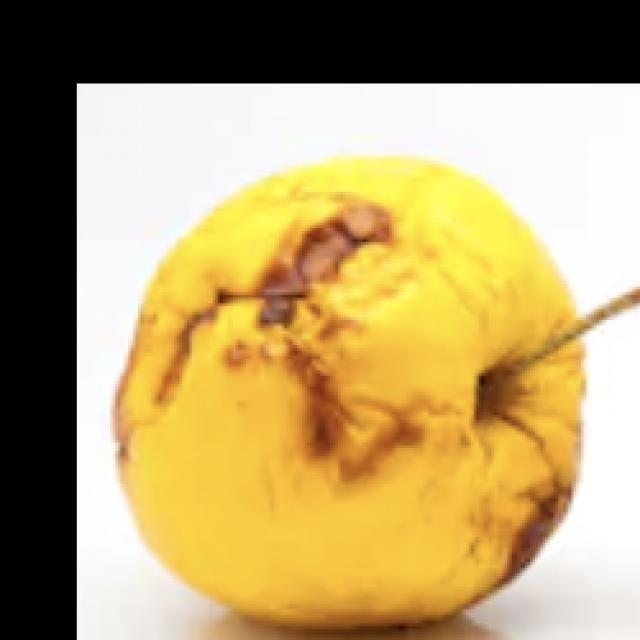Rotten: (141, 161, 581, 640)
